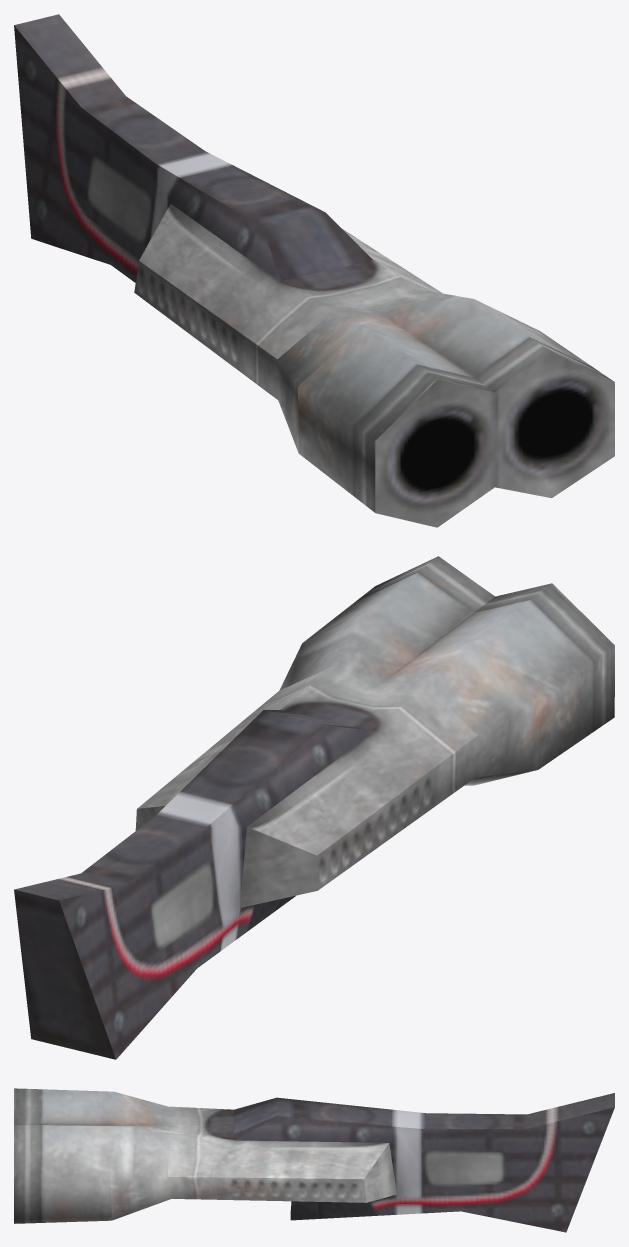
The model's file is weapon4.obj.
3 renders of one model, top to bottom at view 1: azimuth 30°, elevation 25°; view 2: azimuth 150°, elevation 25°; view 3: azimuth 270°, elevation 25°, orthographic. The views are drawn at different scales.
Size of the model in its own units: 2.15 by 1.55 by 7.1.
Materials: 1 (1 with a texture image).
